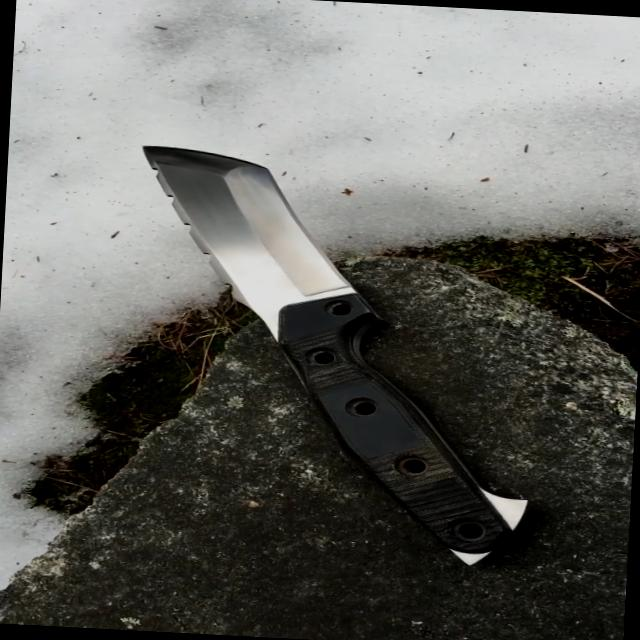knife: (120, 130, 390, 364)
